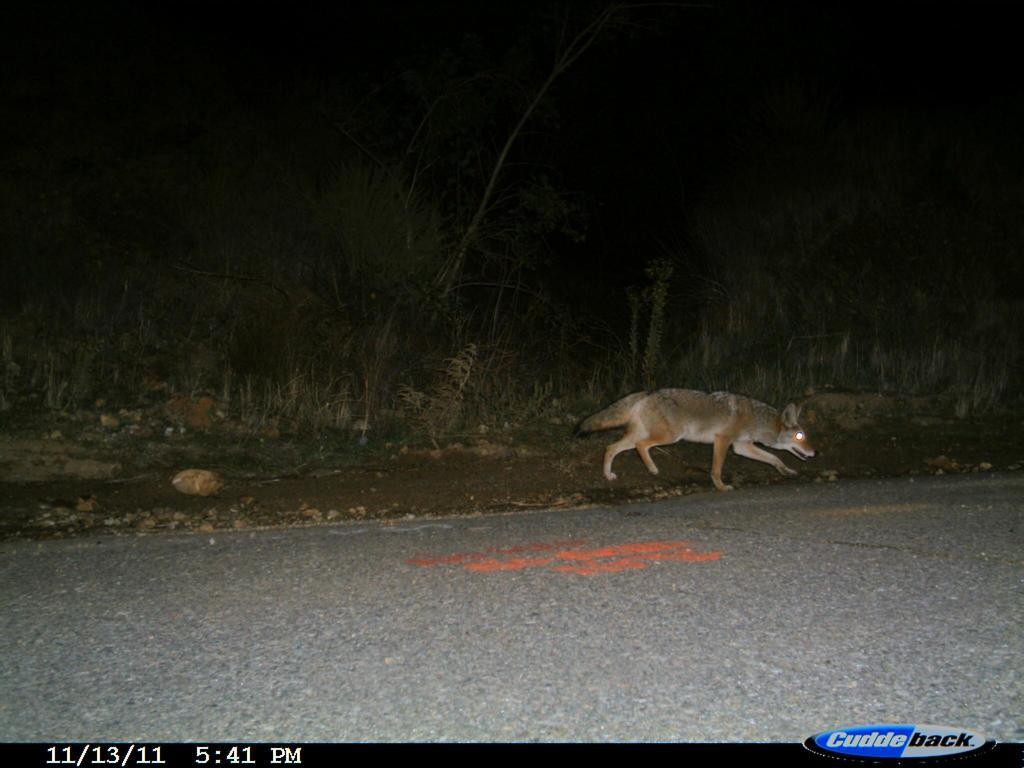coyote: (574, 377, 825, 500)
